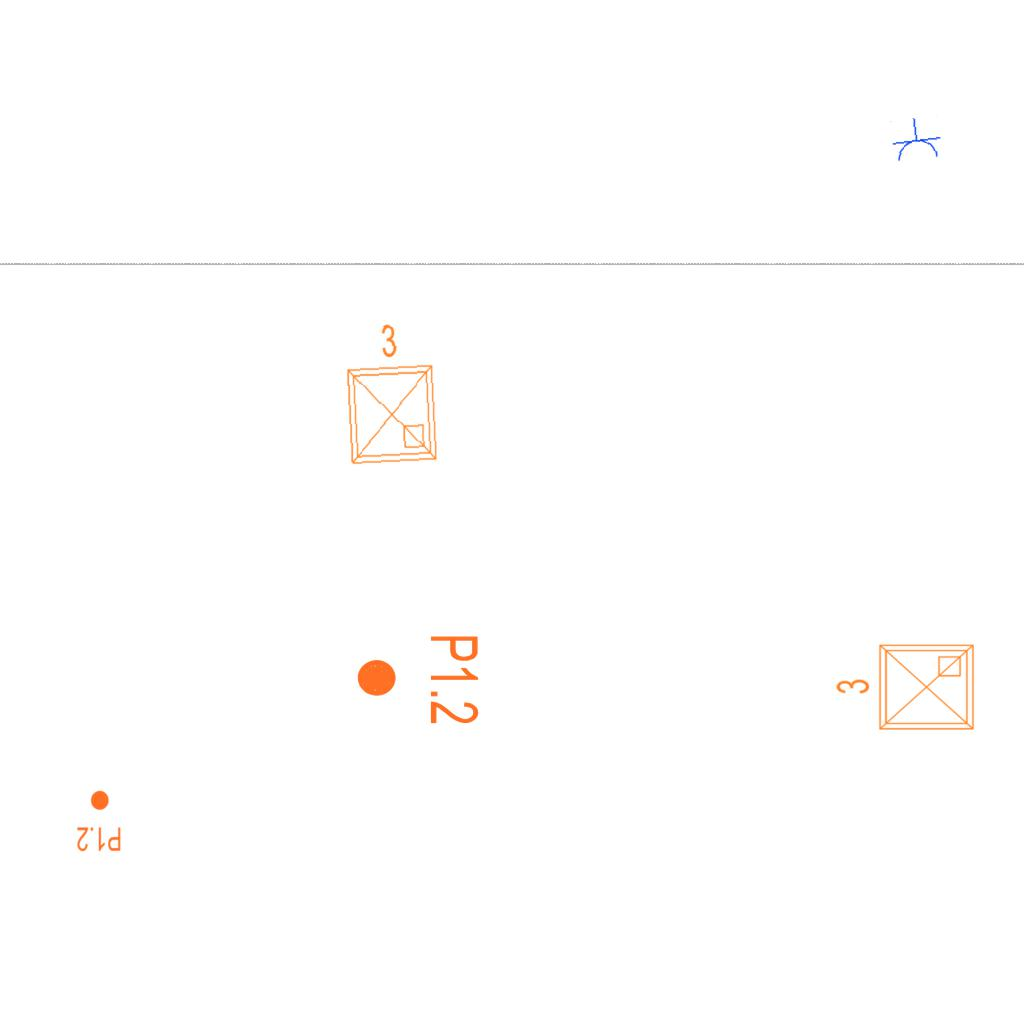Downlight_LED_Einbauleuchten_Flur: (354, 633, 482, 726), (76, 789, 122, 853)
Einbaudownlights_LED_Konferenzraeume: (333, 316, 445, 472), (831, 637, 981, 741)
Schukosteckdose_einfach: (888, 115, 944, 164)
